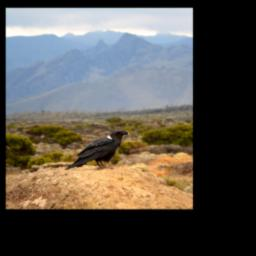Crow: (63, 129, 131, 172)
